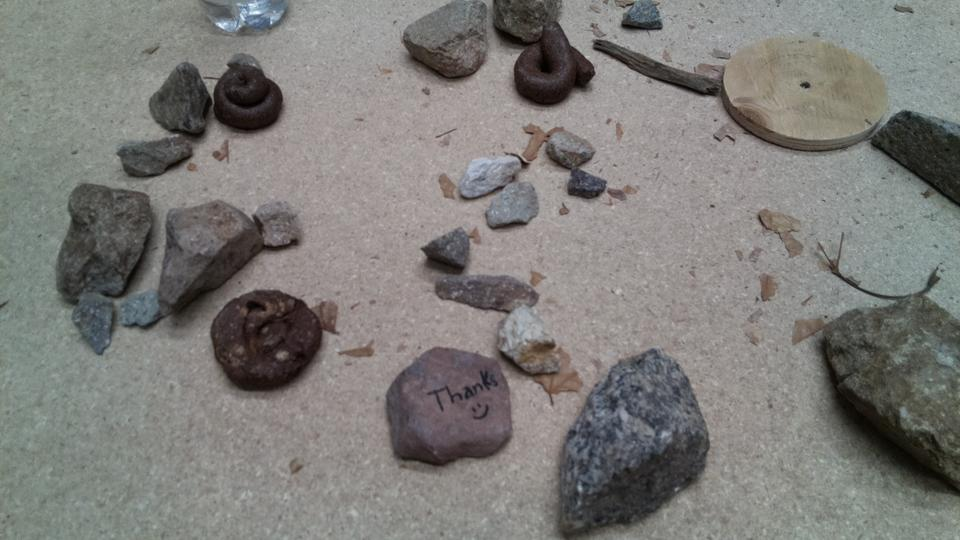poop: (209, 286, 325, 395), (511, 19, 599, 107), (210, 62, 285, 132)
